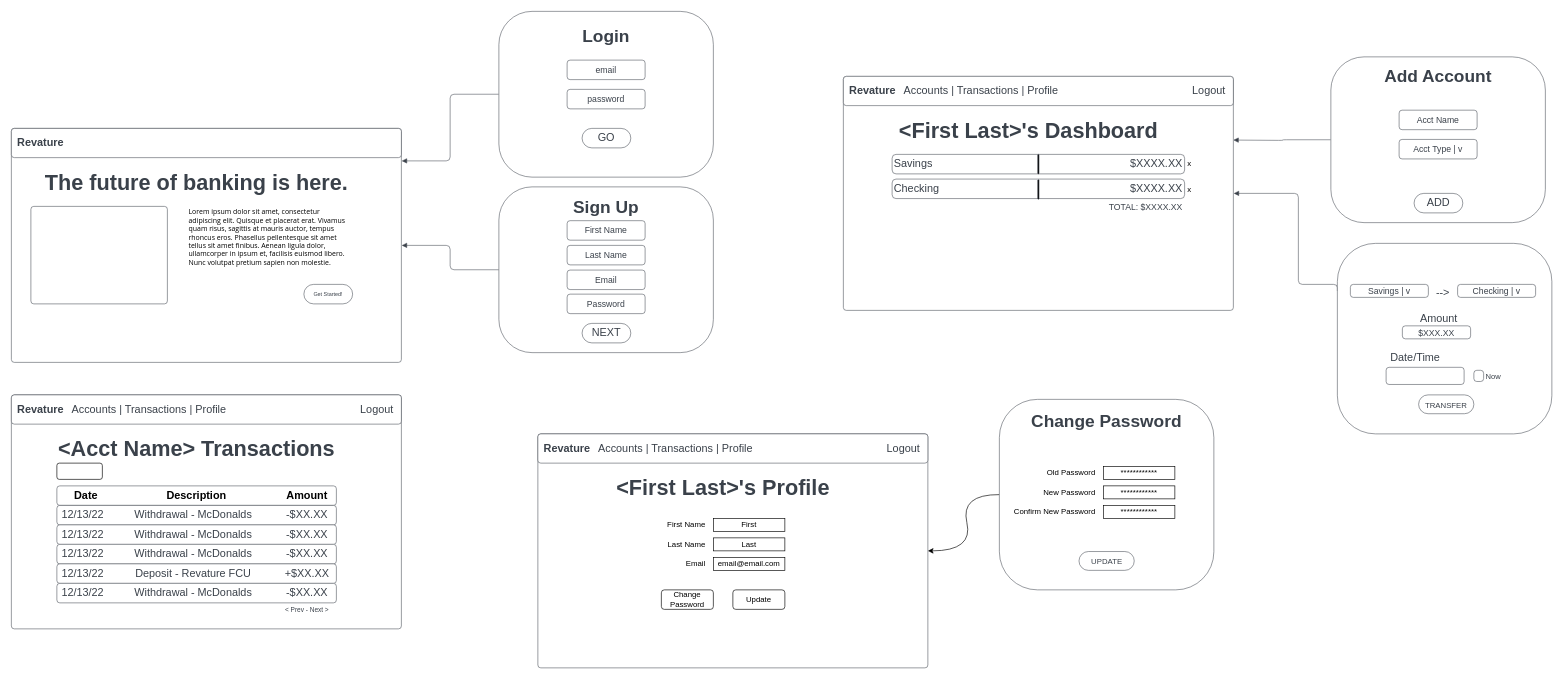
The diagram is 1563 pixels wide and 679 high, and some of its shapes have lost their labels. The shapes that lost their labels are listed below. From the top down, each one's box as (x1, y1, x2, y2) in pixels, then its label:
(313, 128, 401, 158): Login | Sign up
(30, 206, 167, 304): Image of a woman browsing on her laptop while holding a swaddled newborn.
(1337, 238, 1552, 292): Schedule Transfer
(56, 462, 102, 479): Filter | v
